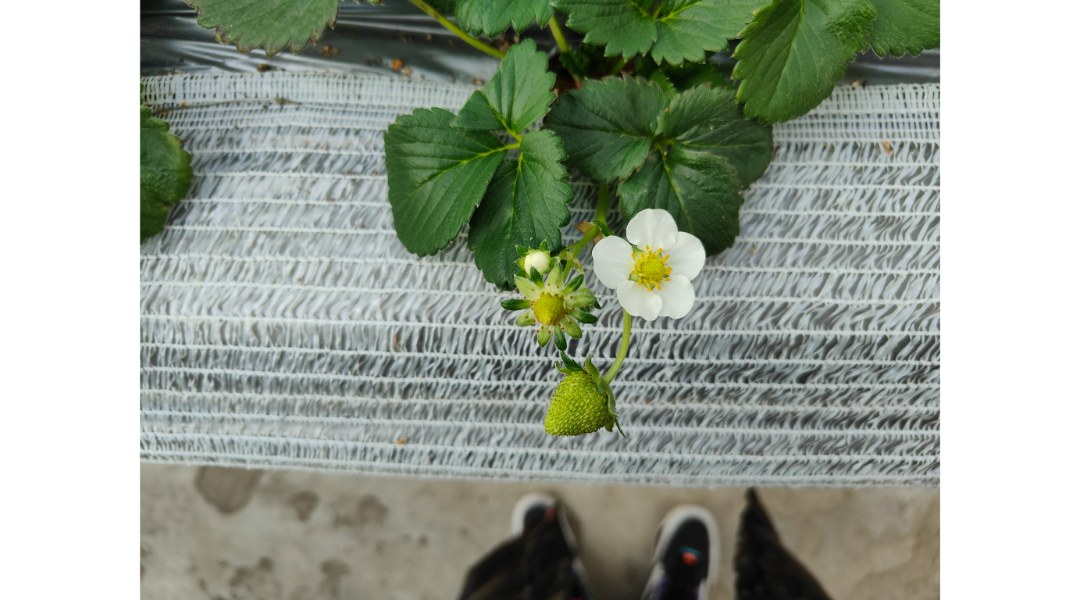berry: (530, 359, 622, 442), (500, 265, 594, 345)
flower: (592, 210, 708, 326)
